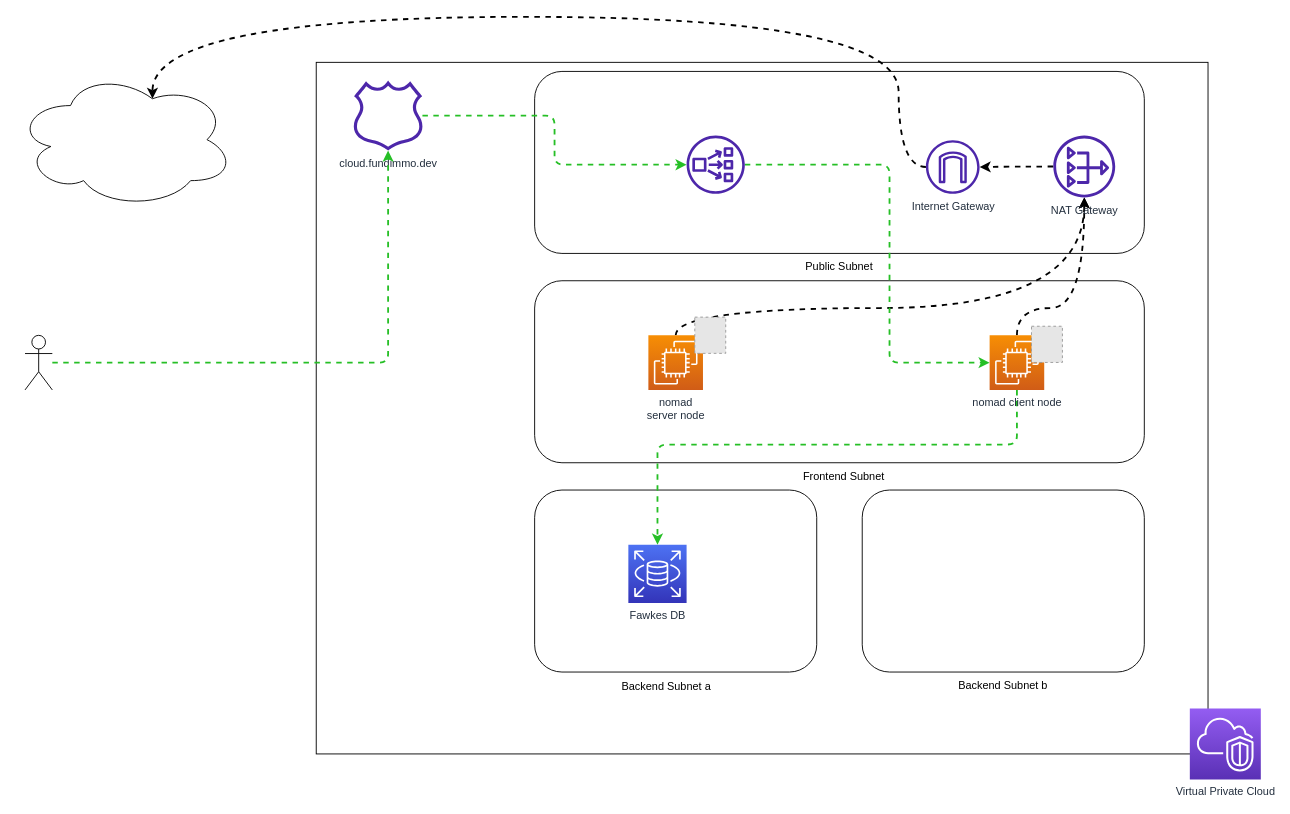
The diagram is 1290 pixels wide and 814 high, and some of its shapes have lost their labels. Grey dashed boxes stand in for pictures. Here are the shapes that lost their labels. From the top down, the centre of each, then its label:
At (x=124, y=139): "Internet".
At (x=715, y=164): "Network Load Balancer".
At (x=38, y=362): "Actor".
